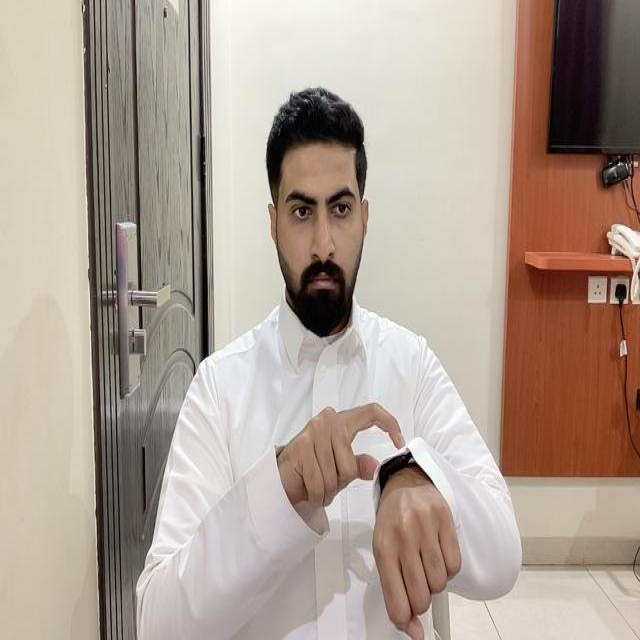appointment: (275, 400, 465, 640)
